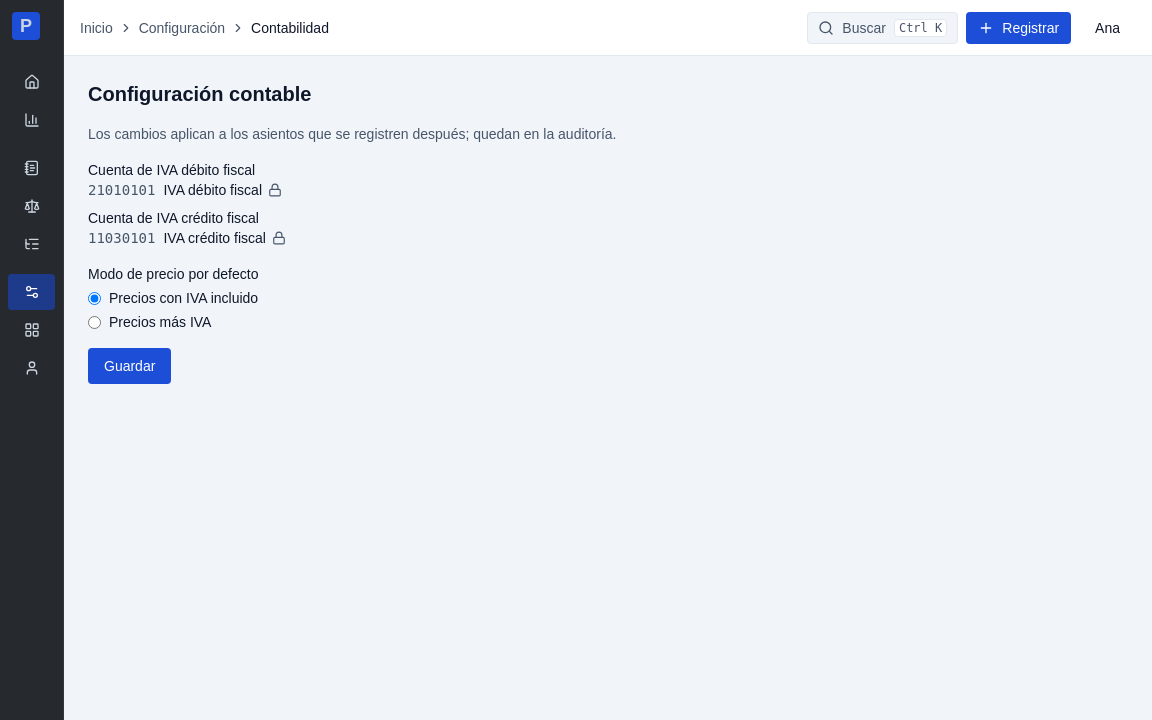
Test case: pestaña Contabilidad de Configuración › un 412 PLT-016 muestra el aviso y "Recargar" vuelve a pedir la configuración
The image size is (1152, 720).
Expected: the radio button labelled "Precios más IVA" is shown, [88,316,101,328]
Click the button "Guardar". click: (130, 366)
box: [88,348,171,384]
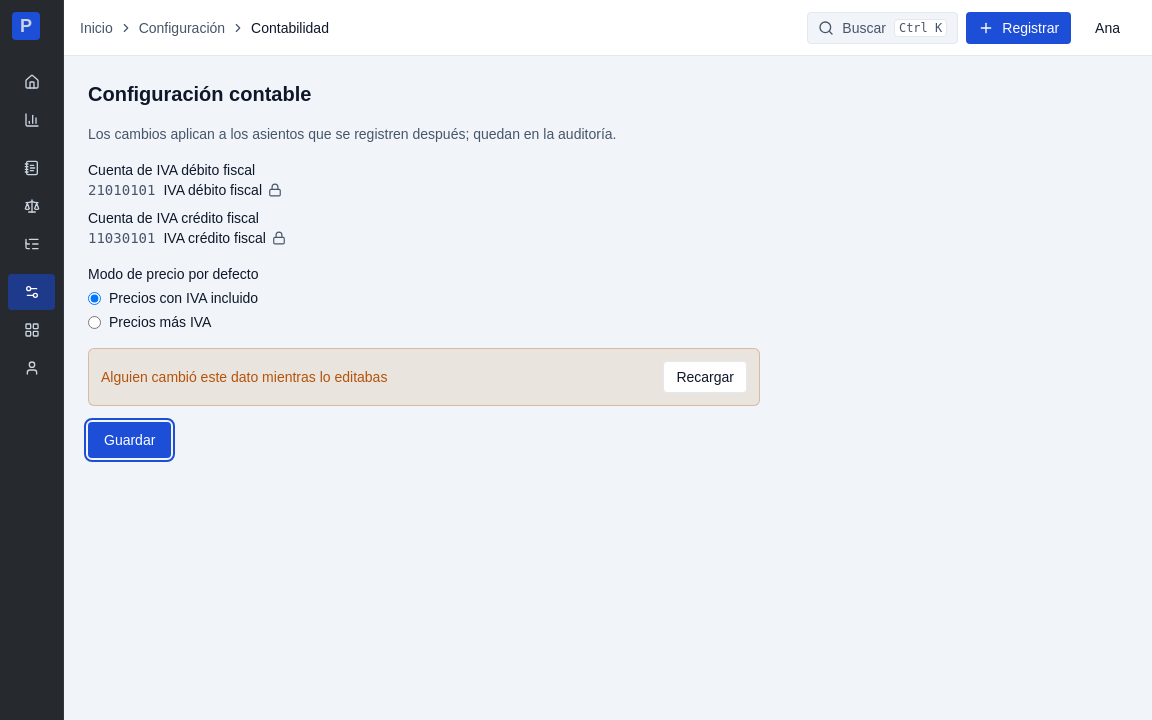
Expected: the text "Alguien cambió este dato mientras lo editabas" is shown, [101,367,387,387]
Click the button "Recargar". click: (705, 377)
box: [663,361,747,393]
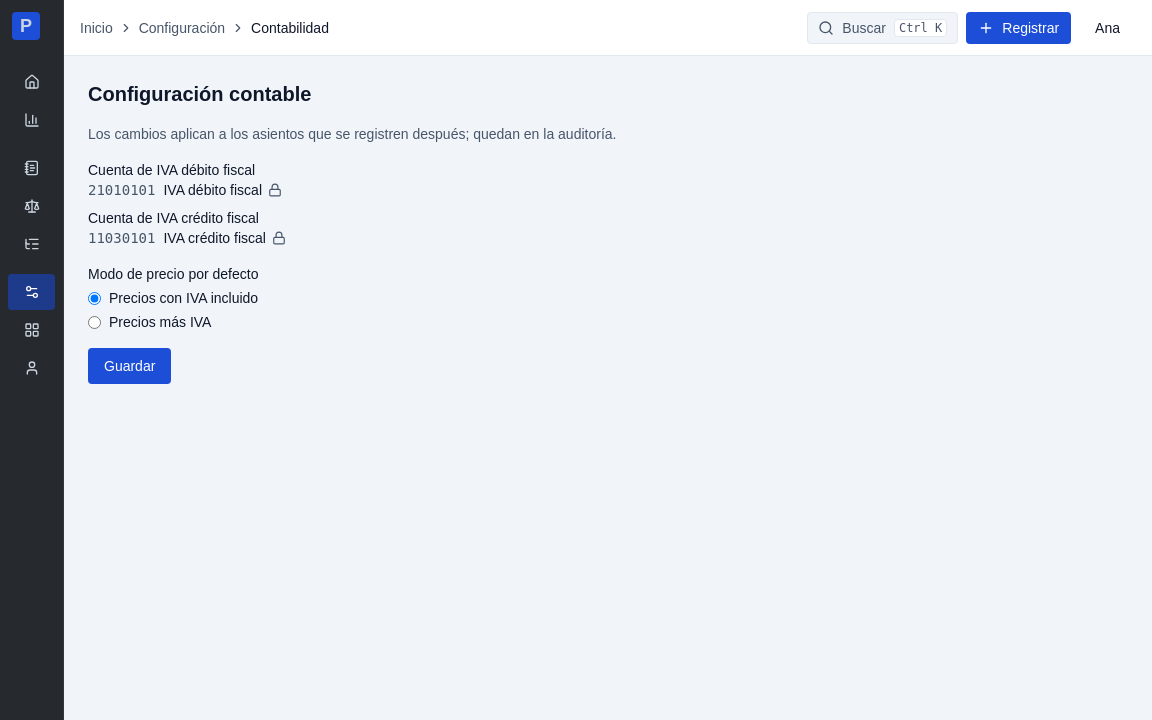
Expected: the text "Alguien cambió este dato mientras lo editabas" is gone
